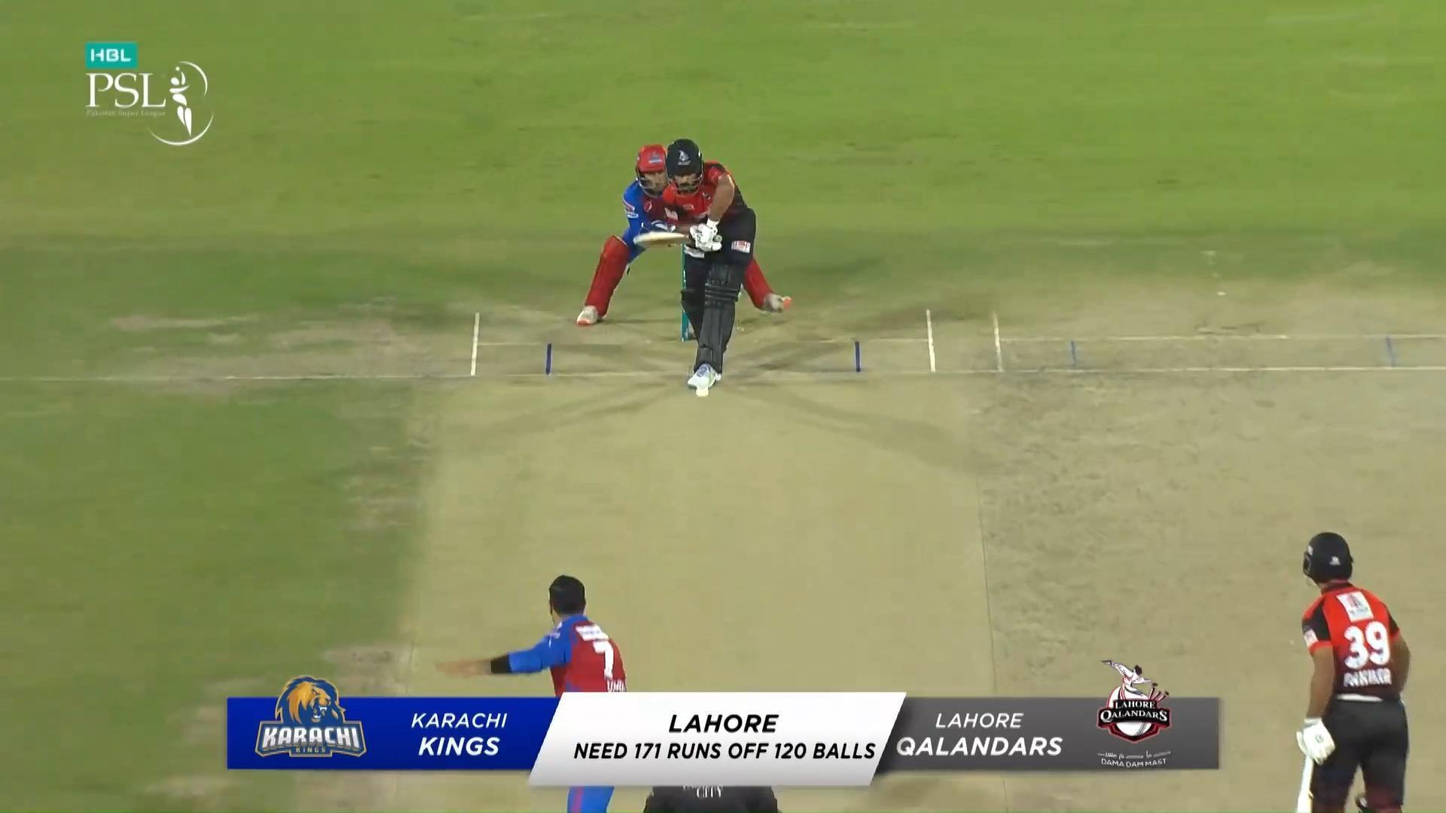BM 1: (632, 138, 757, 392)
BO: (433, 574, 628, 813)
